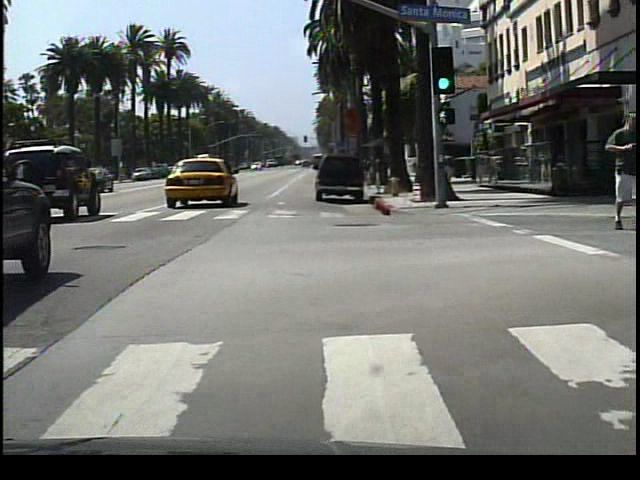person: (592, 110, 640, 233)
